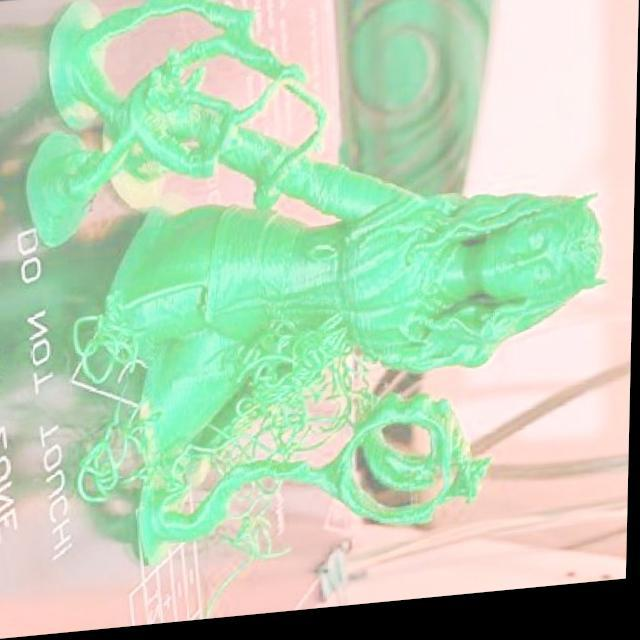spaghetti: (79, 316, 378, 509), (209, 487, 302, 622), (77, 288, 148, 389), (148, 49, 186, 116), (310, 250, 338, 269)
